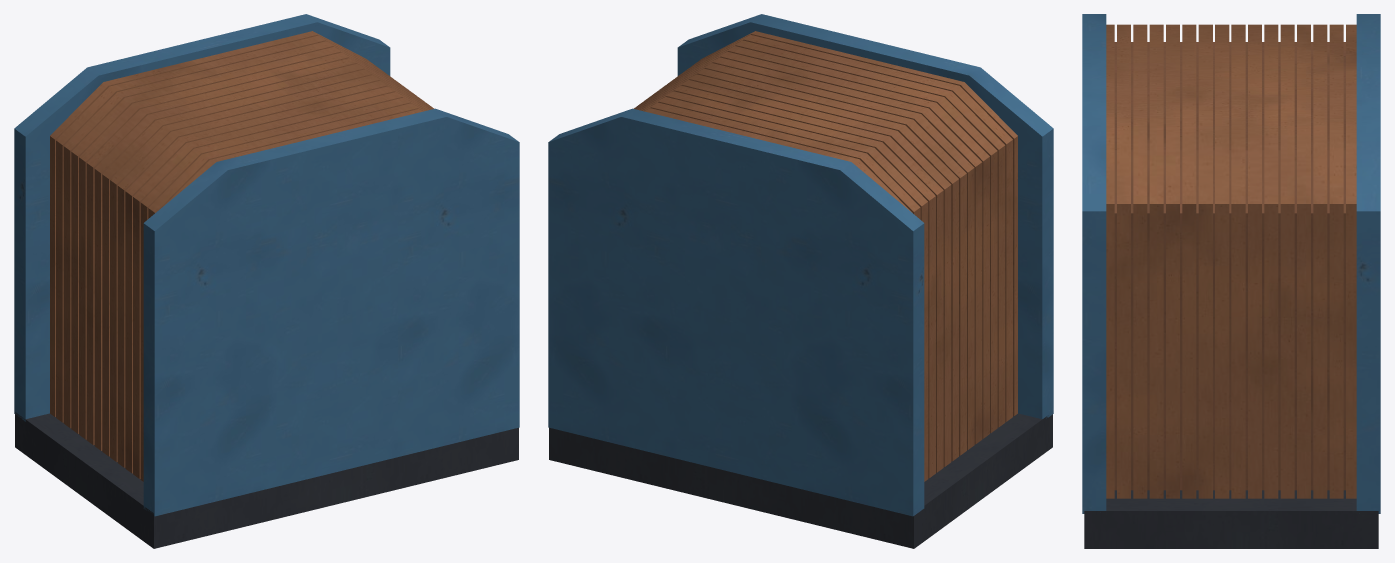
File: coil_segment.glb
3 views of the same model, side by side, from view 1: azimuth 30°, elevation 25°; view 2: azimuth 150°, elevation 25°; view 3: azimuth 270°, elevation 25° (orthographic). The views are drawn at different scales.
Parts seen in each view (by area): view 1: CoilSegmentBody; view 2: CoilSegmentBody; view 3: CoilSegmentBody.
Part boxes in pixels (x1,y1,x2,y2): CoilSegmentBody: [14, 14, 519, 548]; CoilSegmentBody: [548, 14, 1053, 548]; CoilSegmentBody: [1082, 14, 1380, 548].
Bounding box in the file's own units: 0.75 × 0.71 × 0.5.
5 materials, 5 textured.
